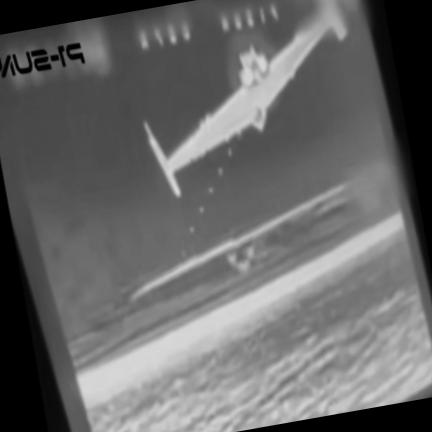Shahed: (142, 6, 346, 197)
